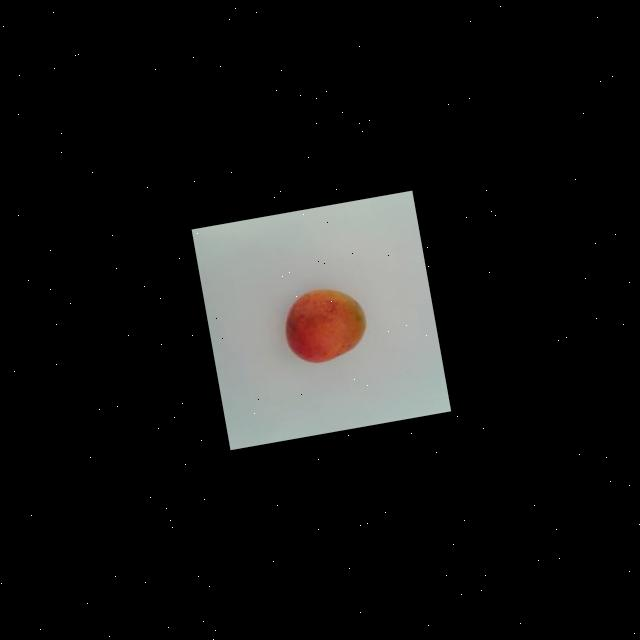Mango: (278, 282, 372, 368)
